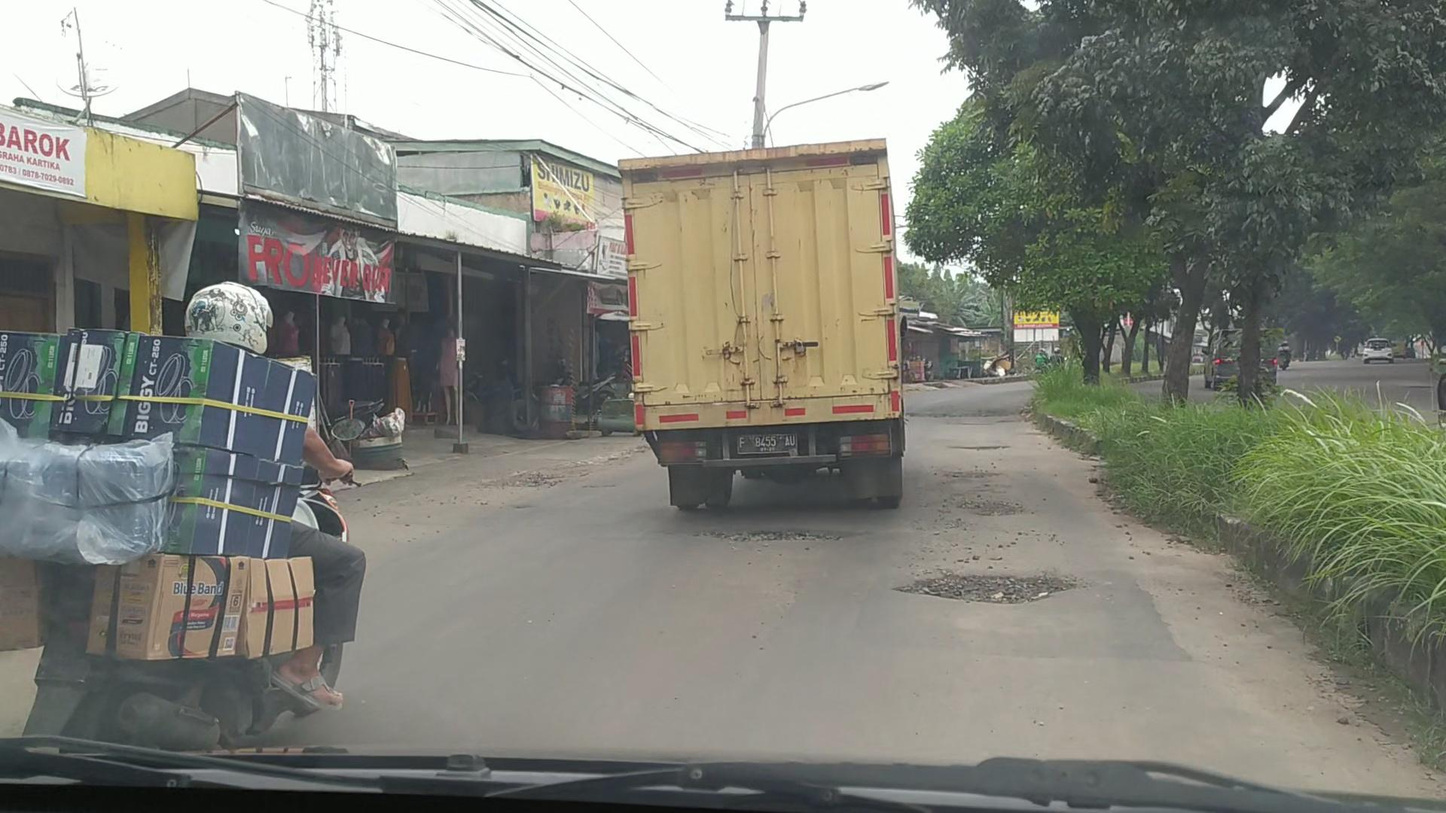pothole: (895, 570, 1085, 607), (692, 526, 864, 543), (951, 499, 1025, 518), (939, 467, 1001, 479), (945, 443, 1012, 452)
